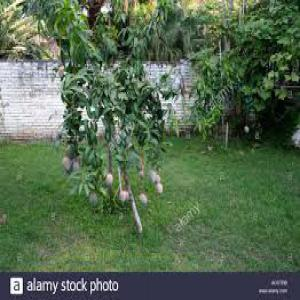Tree: (56, 44, 170, 236)
